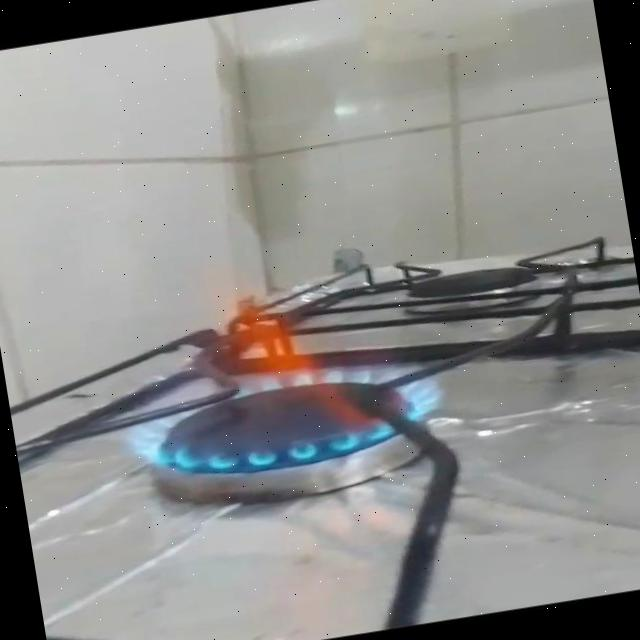fire: (92, 249, 458, 496)
